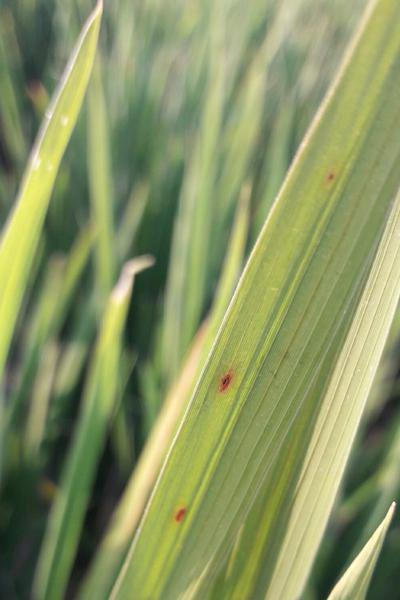0 BrownSpot: (213, 354, 241, 399), (316, 156, 341, 192), (170, 500, 197, 527)
